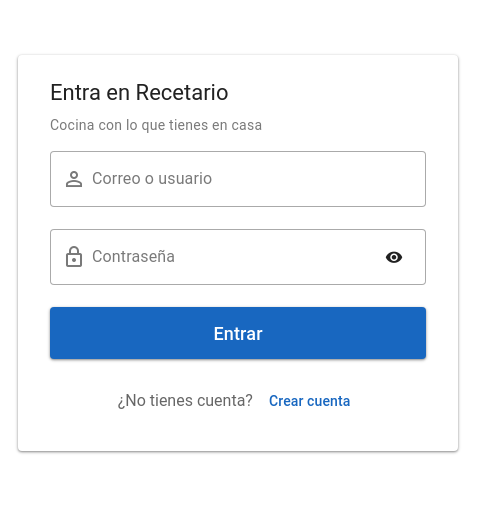
Scenario: LoginView › muestra el error cuando las credenciales no valen y no navega
Step 1. Type "ana" into the field labelled "Correo o usuario" → x=256, y=179, box [86,151,426,207]
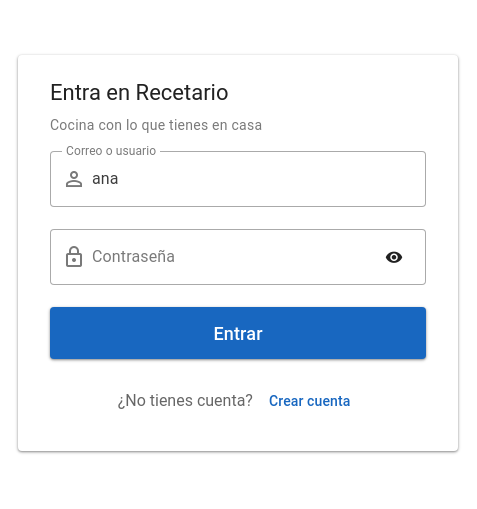
Step 2. Type "mala" into the password field labelled "Contraseña" → x=230, y=257, box [86,229,374,285]
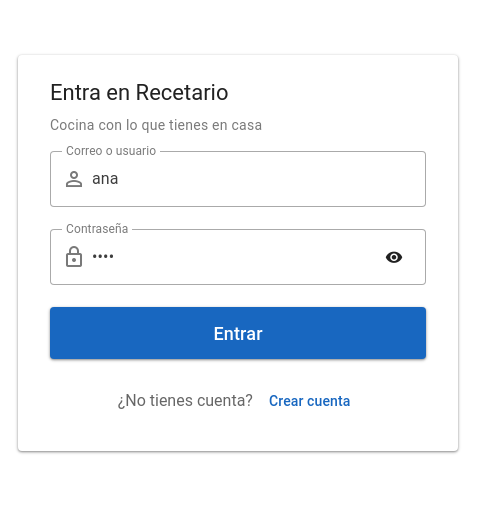
Step 3. Submit the form, box [50,151,426,359]
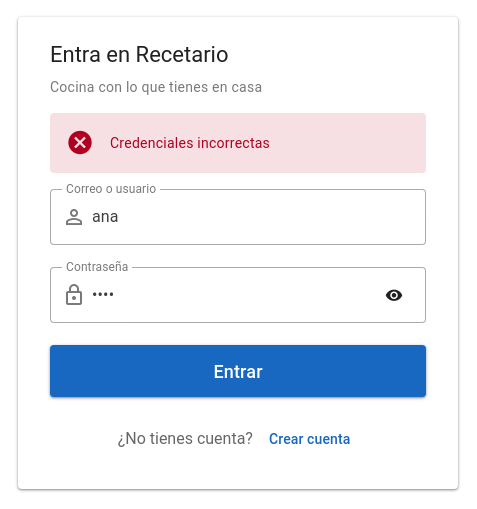
Now the message "Credenciales incorrectas" is shown, box [50,113,426,173]
